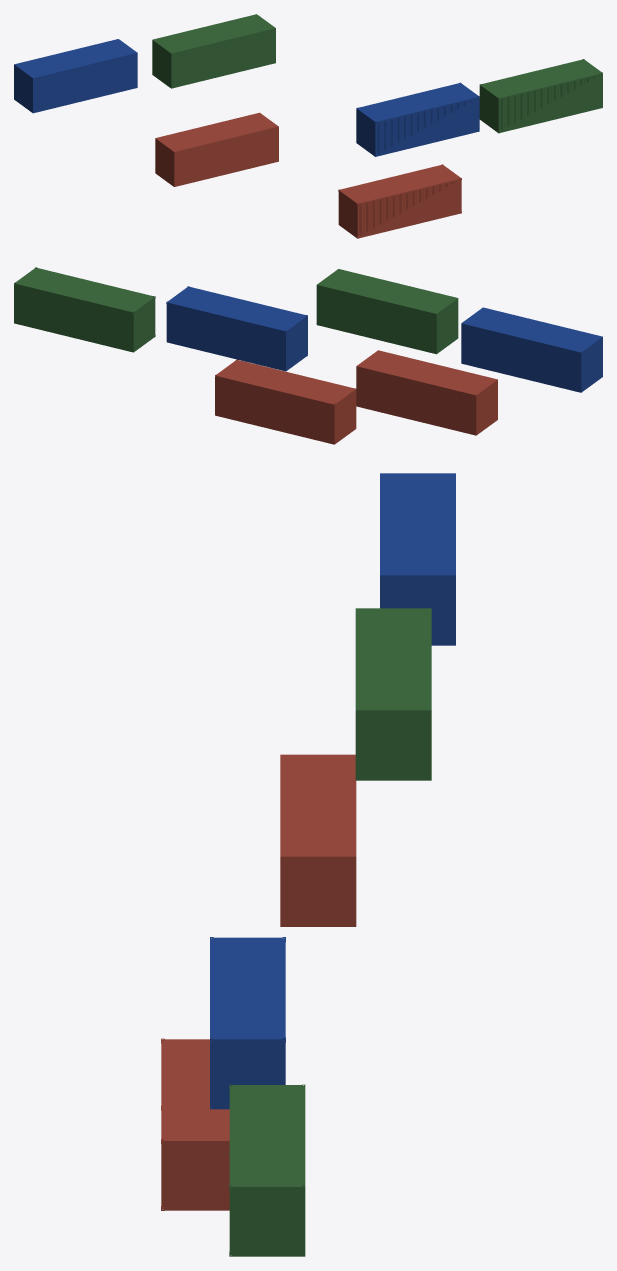
Rendered from container_optimal.fbx.
3 renders of one model, top to bottom at view 1: azimuth 30°, elevation 25°; view 2: azimuth 150°, elevation 25°; view 3: azimuth 270°, elevation 25°, orthographic. The views are drawn at different scales.
Parts seen in each view (by area): view 1: Cube.009, Cube.005, Cube.008, Cube.010, Cube.011, Cube.006; view 2: Cube.009, Cube.005, Cube.008, Cube.006, Cube.010, Cube.011; view 3: Cube.009, Cube.005, Cube.006, Cube.011, Cube.008, Cube.010.
Part boxes in pixels (x1,y1,x2,y2): Cube.009: [152, 14, 275, 88]; Cube.005: [155, 112, 278, 186]; Cube.008: [14, 39, 137, 113]; Cube.010: [338, 164, 461, 238]; Cube.011: [356, 82, 479, 156]; Cube.006: [479, 59, 602, 133]; Cube.009: [316, 269, 458, 354]; Cube.005: [356, 350, 497, 435]; Cube.008: [461, 307, 602, 392]; Cube.006: [14, 267, 155, 352]; Cube.010: [215, 359, 356, 444]; Cube.011: [166, 286, 307, 371]; Cube.009: [355, 608, 431, 780]; Cube.005: [280, 754, 356, 926]; Cube.006: [229, 1084, 305, 1256]; Cube.011: [210, 937, 285, 1109]; Cube.008: [380, 473, 455, 645]; Cube.010: [161, 1038, 229, 1210].
Bounding box in the file's own units: 14556 × 4868 × 3492.
